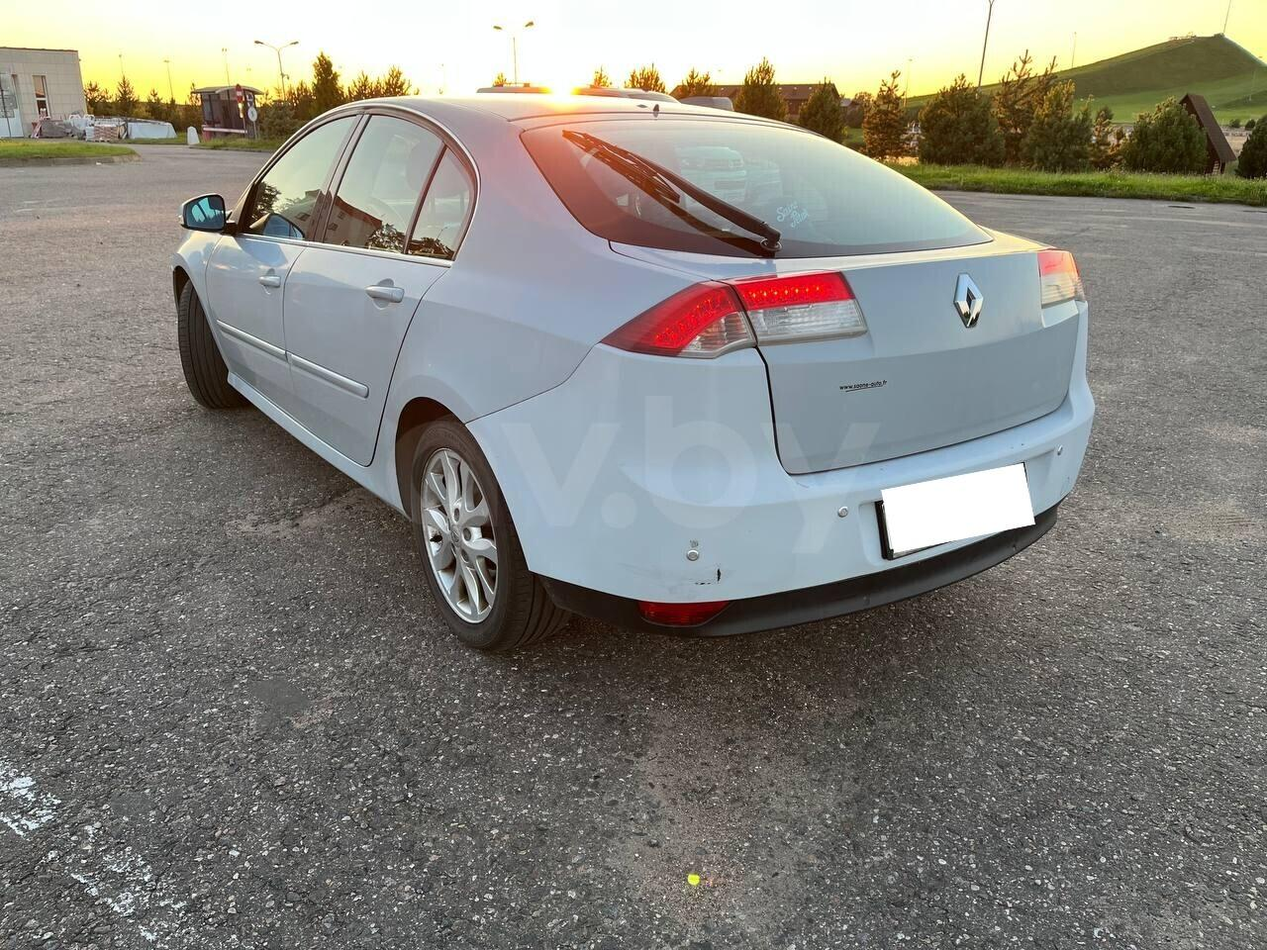Laguna_2007-2011: (169, 94, 1094, 650)
